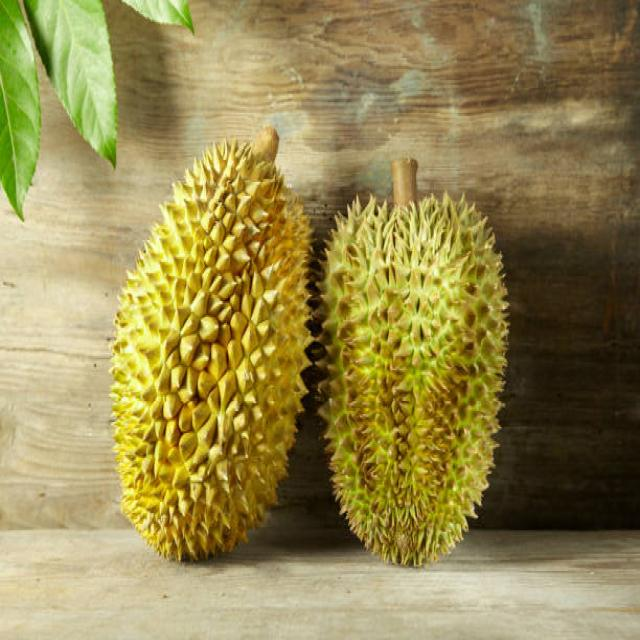mature: (111, 128, 311, 560)
